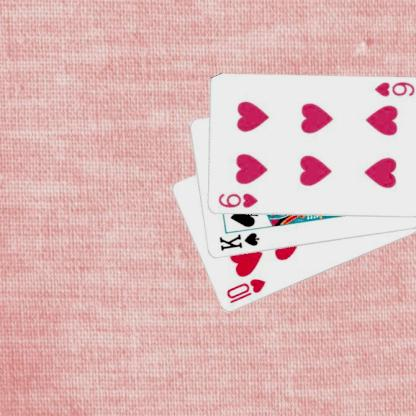10H: (224, 276, 267, 306)
6H: (215, 191, 258, 210), (372, 80, 415, 98)
KS: (216, 230, 261, 253)
